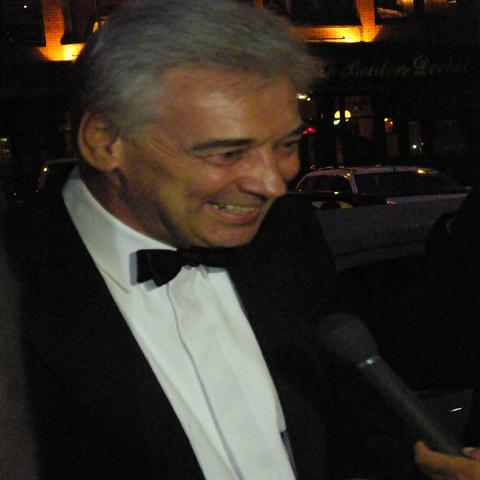car: (292, 166, 470, 270)
